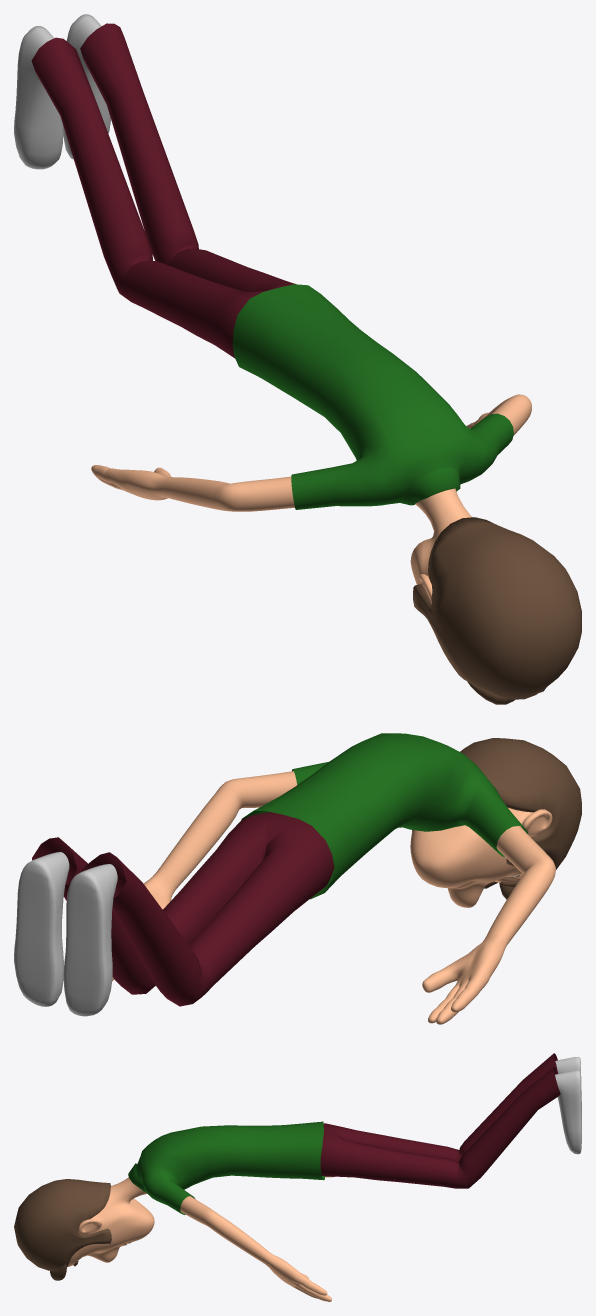
File: dude.obj
3 renders of one model, top to bottom at view 1: azimuth 30°, elevation 25°; view 2: azimuth 150°, elevation 25°; view 3: azimuth 270°, elevation 25°, orthographic. The views are drawn at different scales.
Parts seen in each view (by area): view 1: Character_Mesh_Circle.026; view 2: Character_Mesh_Circle.026; view 3: Character_Mesh_Circle.026.
Boxes of the visible parts, x1,y1,x2,y2 form: Character_Mesh_Circle.026: (14,14,581,704); Character_Mesh_Circle.026: (14,733,581,1024); Character_Mesh_Circle.026: (14,1053,581,1301).
Bounding box in the file's own units: 2.77 × 2.56 × 6.16.
